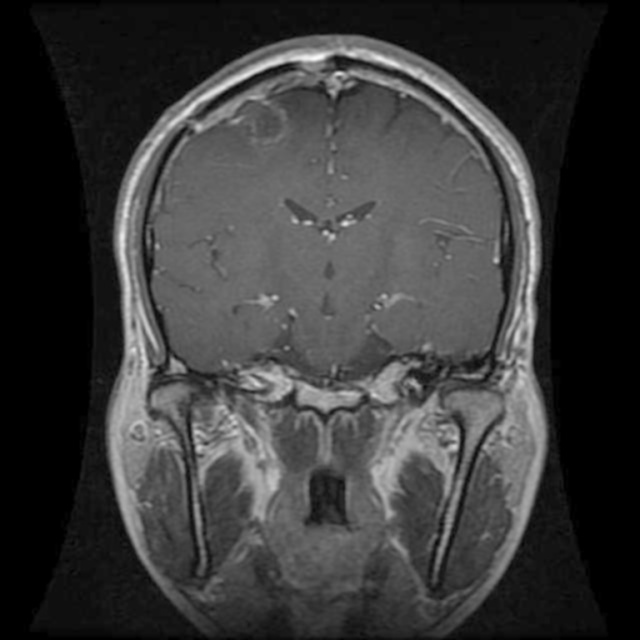pituitary tumor: (234, 100, 290, 144)
